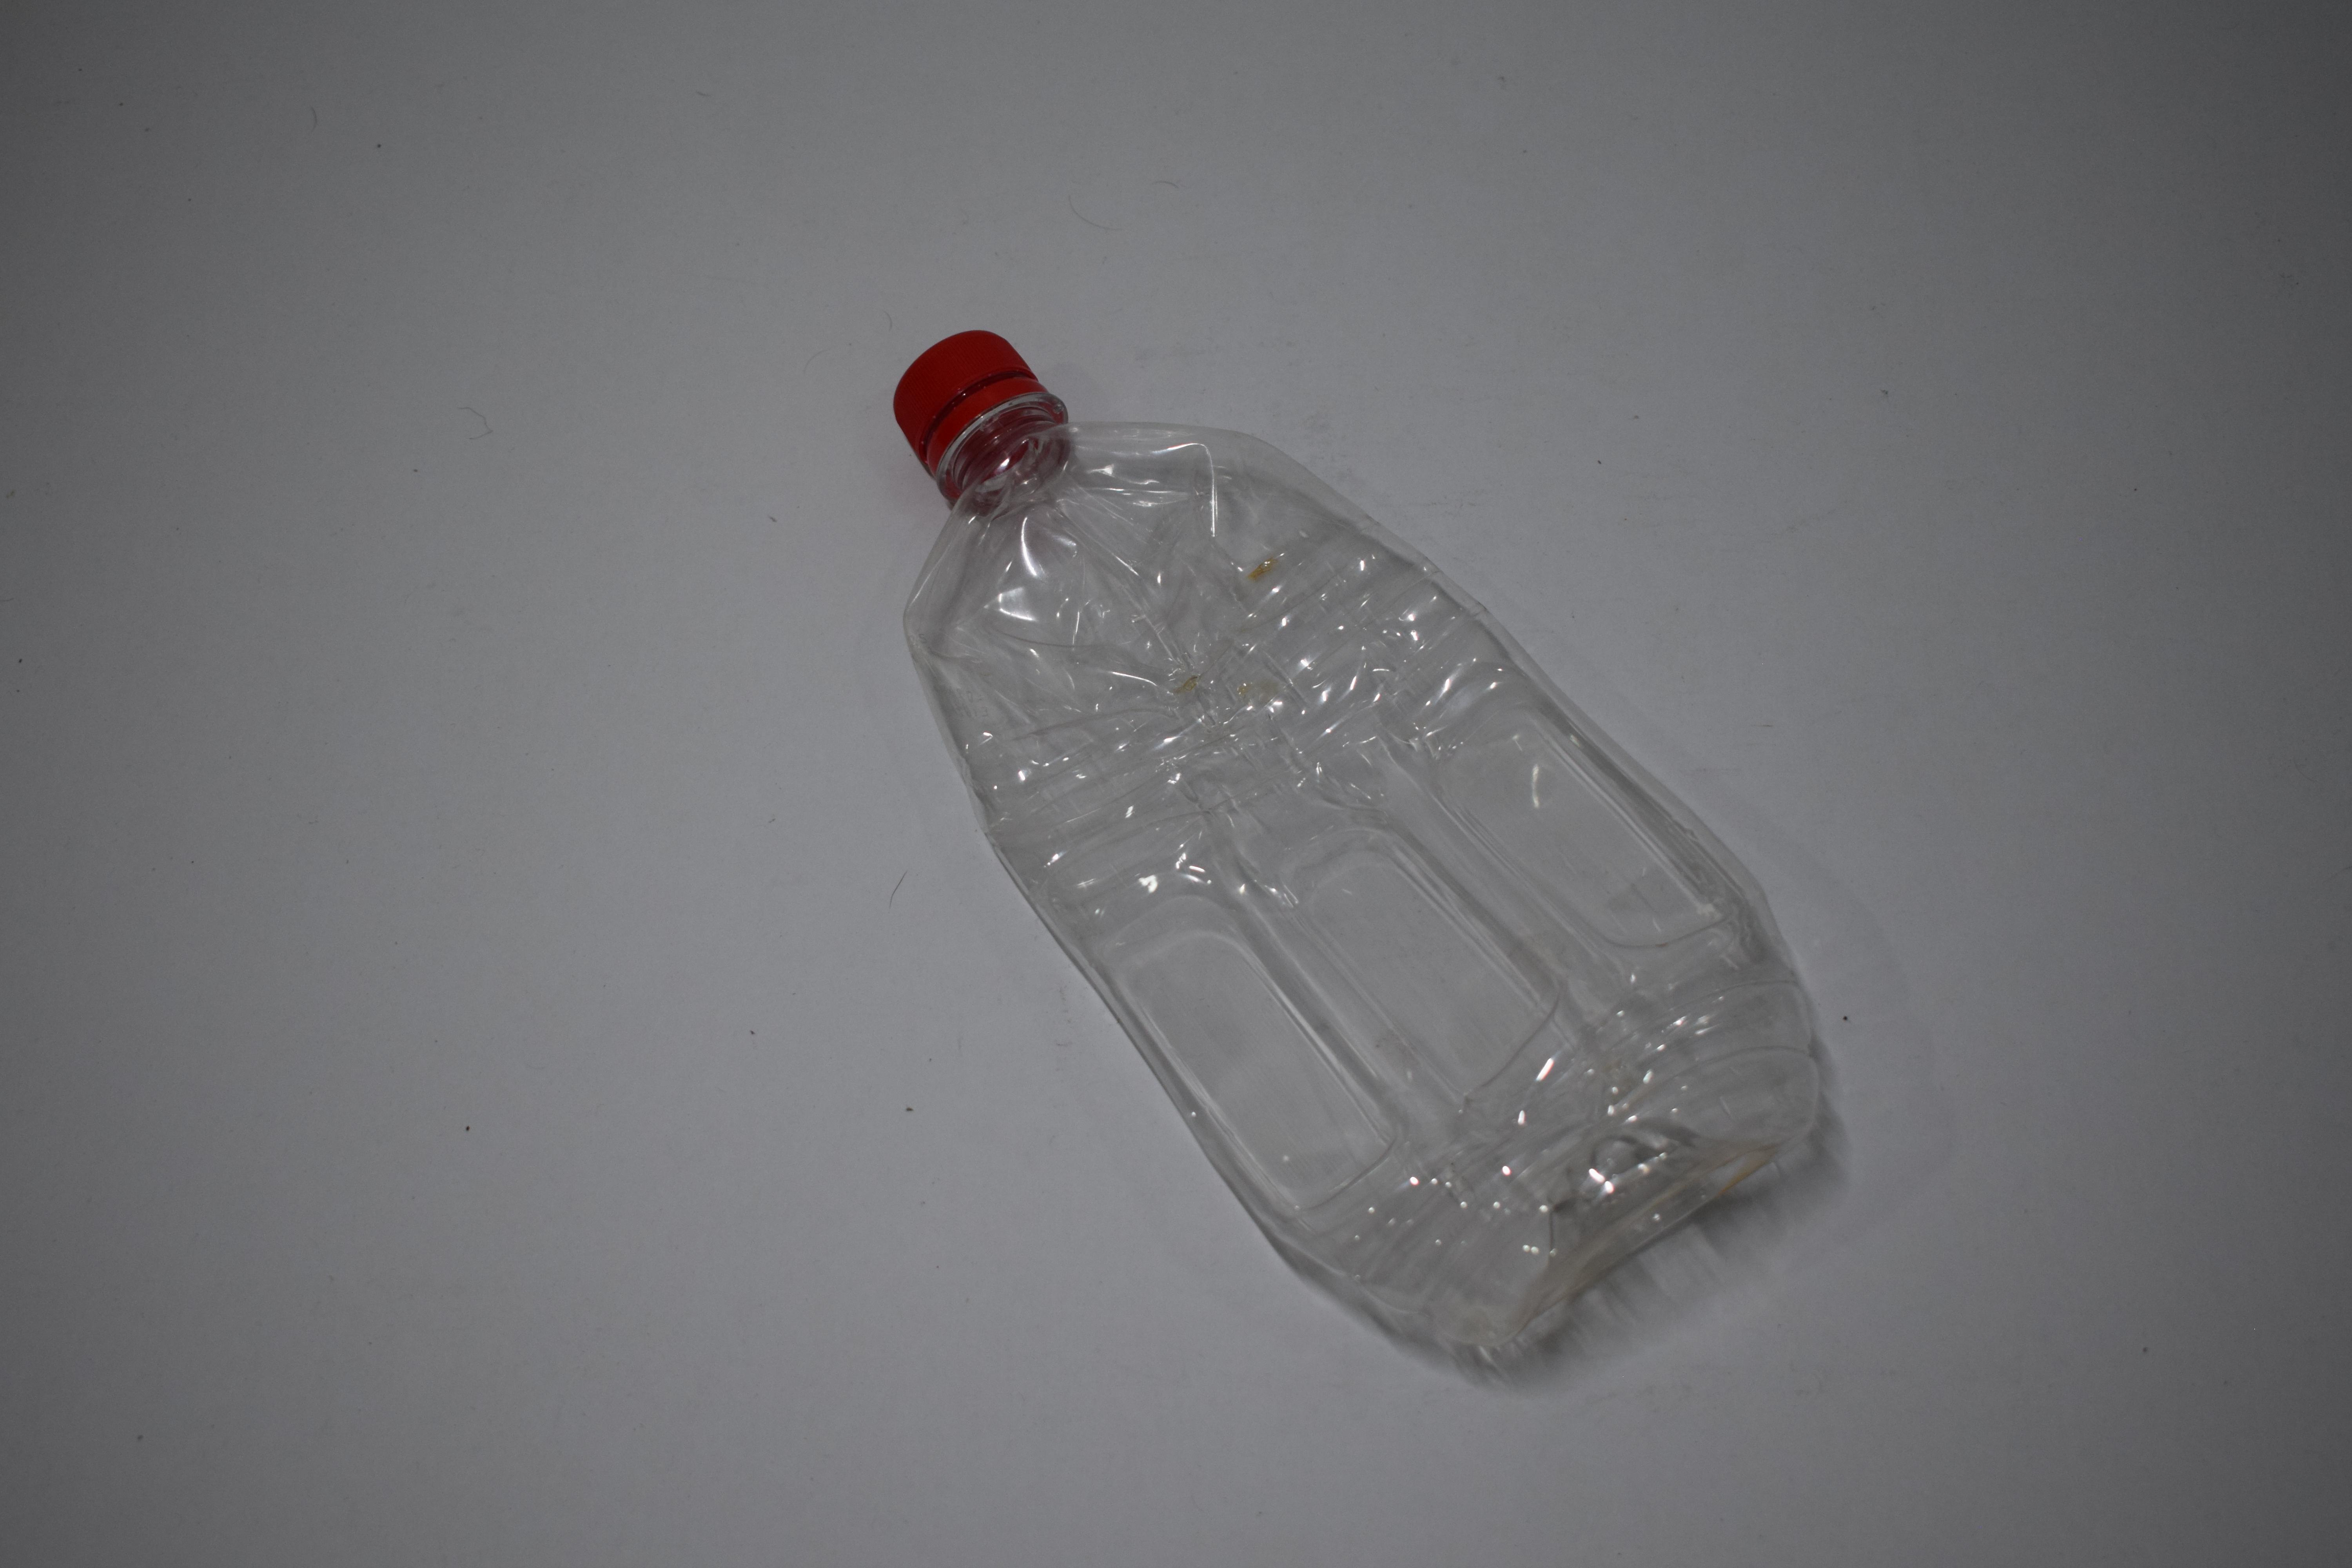bottle: (0, 0, 670, 588)
